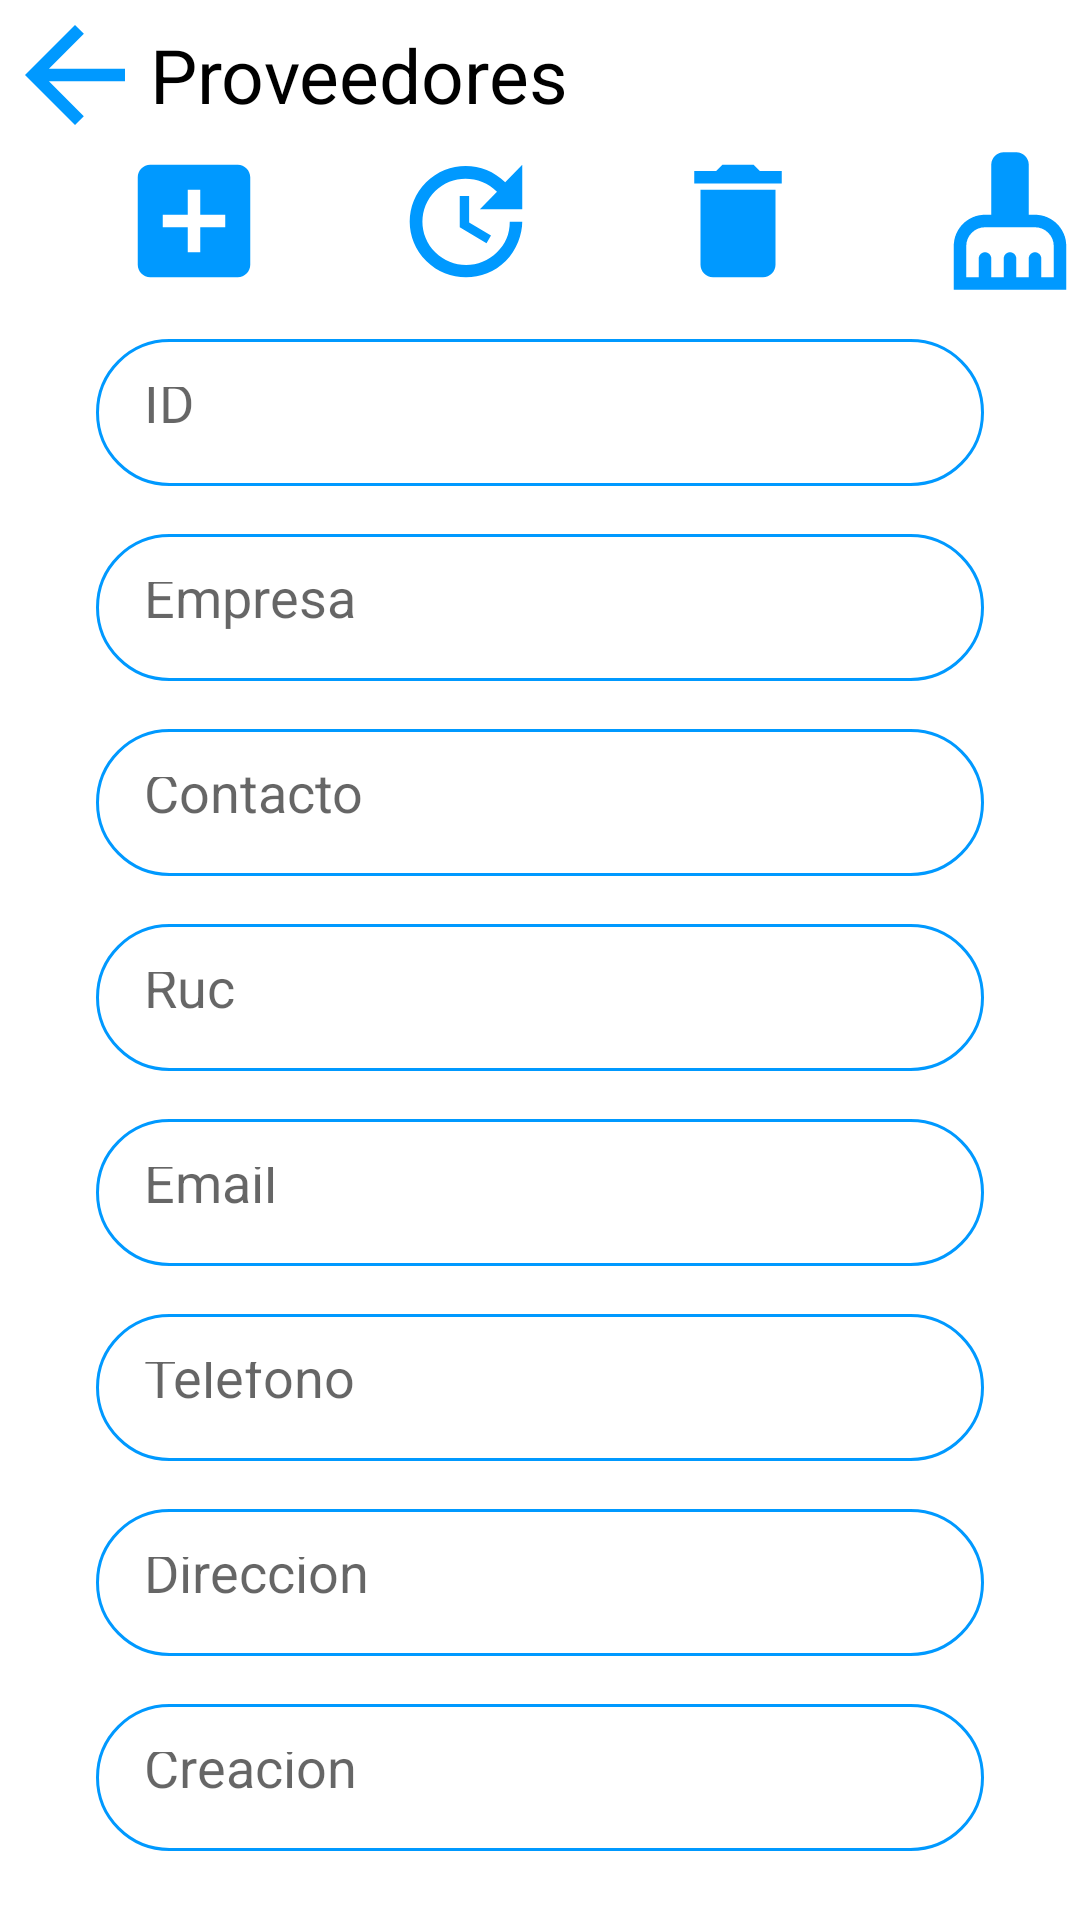

Icons on this 1080w x 1920h Android screen, each with its box as (x1, y1, x2, y2):
actualizar: (409, 165, 523, 278)
aniadir: (137, 164, 251, 278)
eliminar: (694, 164, 782, 278)
volver: (25, 25, 125, 125)
